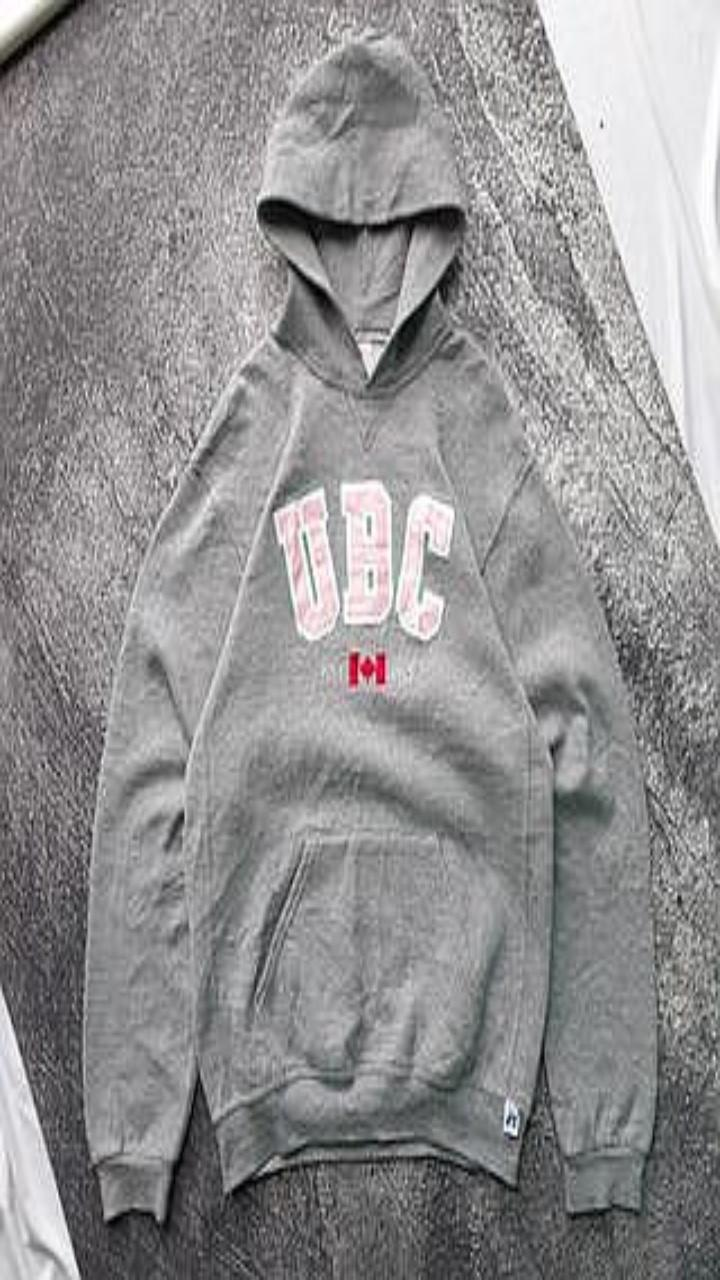Hoodie: (83, 31, 655, 1221)
